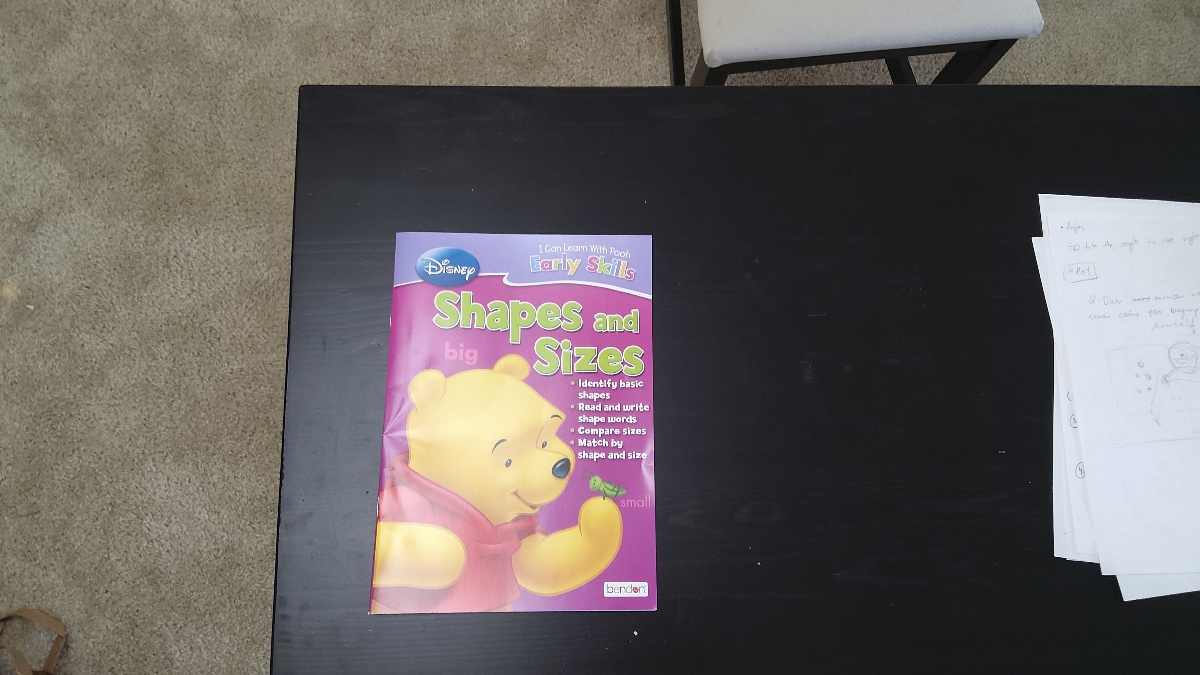book: (365, 230, 662, 619)
